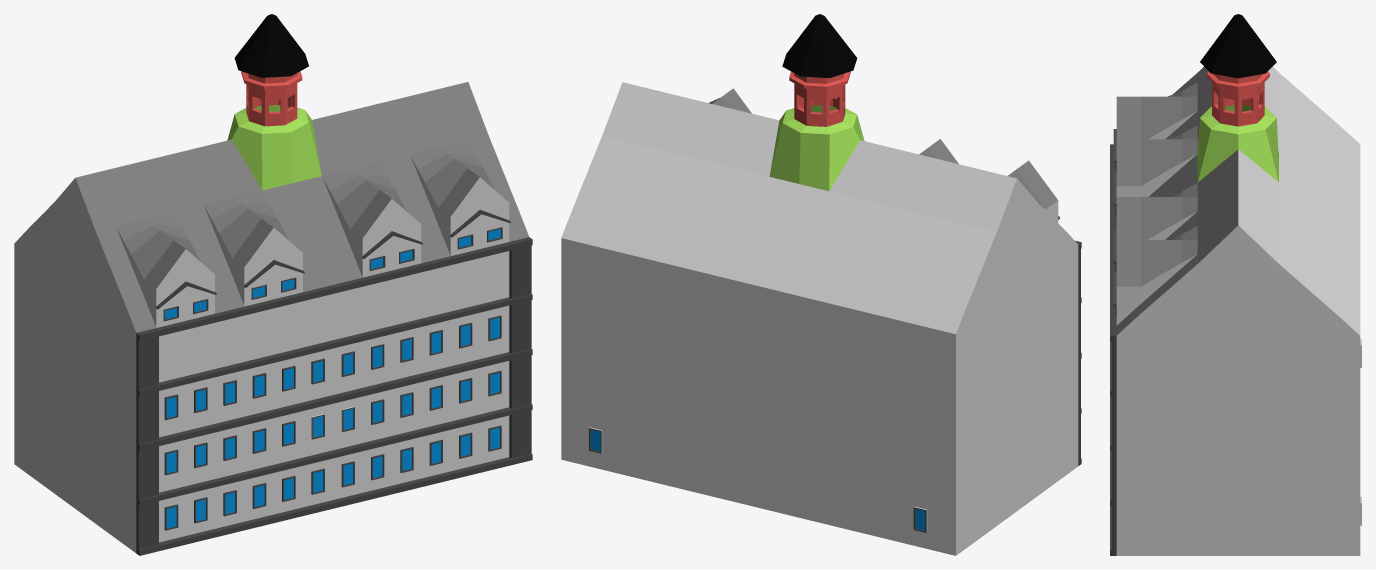
Rendered from germanhouse_1.fbx.
3 views of the same model, side by side, from view 1: azimuth 30°, elevation 25°; view 2: azimuth 150°, elevation 25°; view 3: azimuth 270°, elevation 25° (orthographic).
Visible parts, largest first — view 1: Cube; view 2: Cube; view 3: Cube.
Part boxes in pixels (x1,y1,x2,y2): Cube: (14,14,532,555); Cube: (561,14,1081,555); Cube: (1110,14,1361,555).
Bounding box in the file's own units: 744 × 809 × 414.
